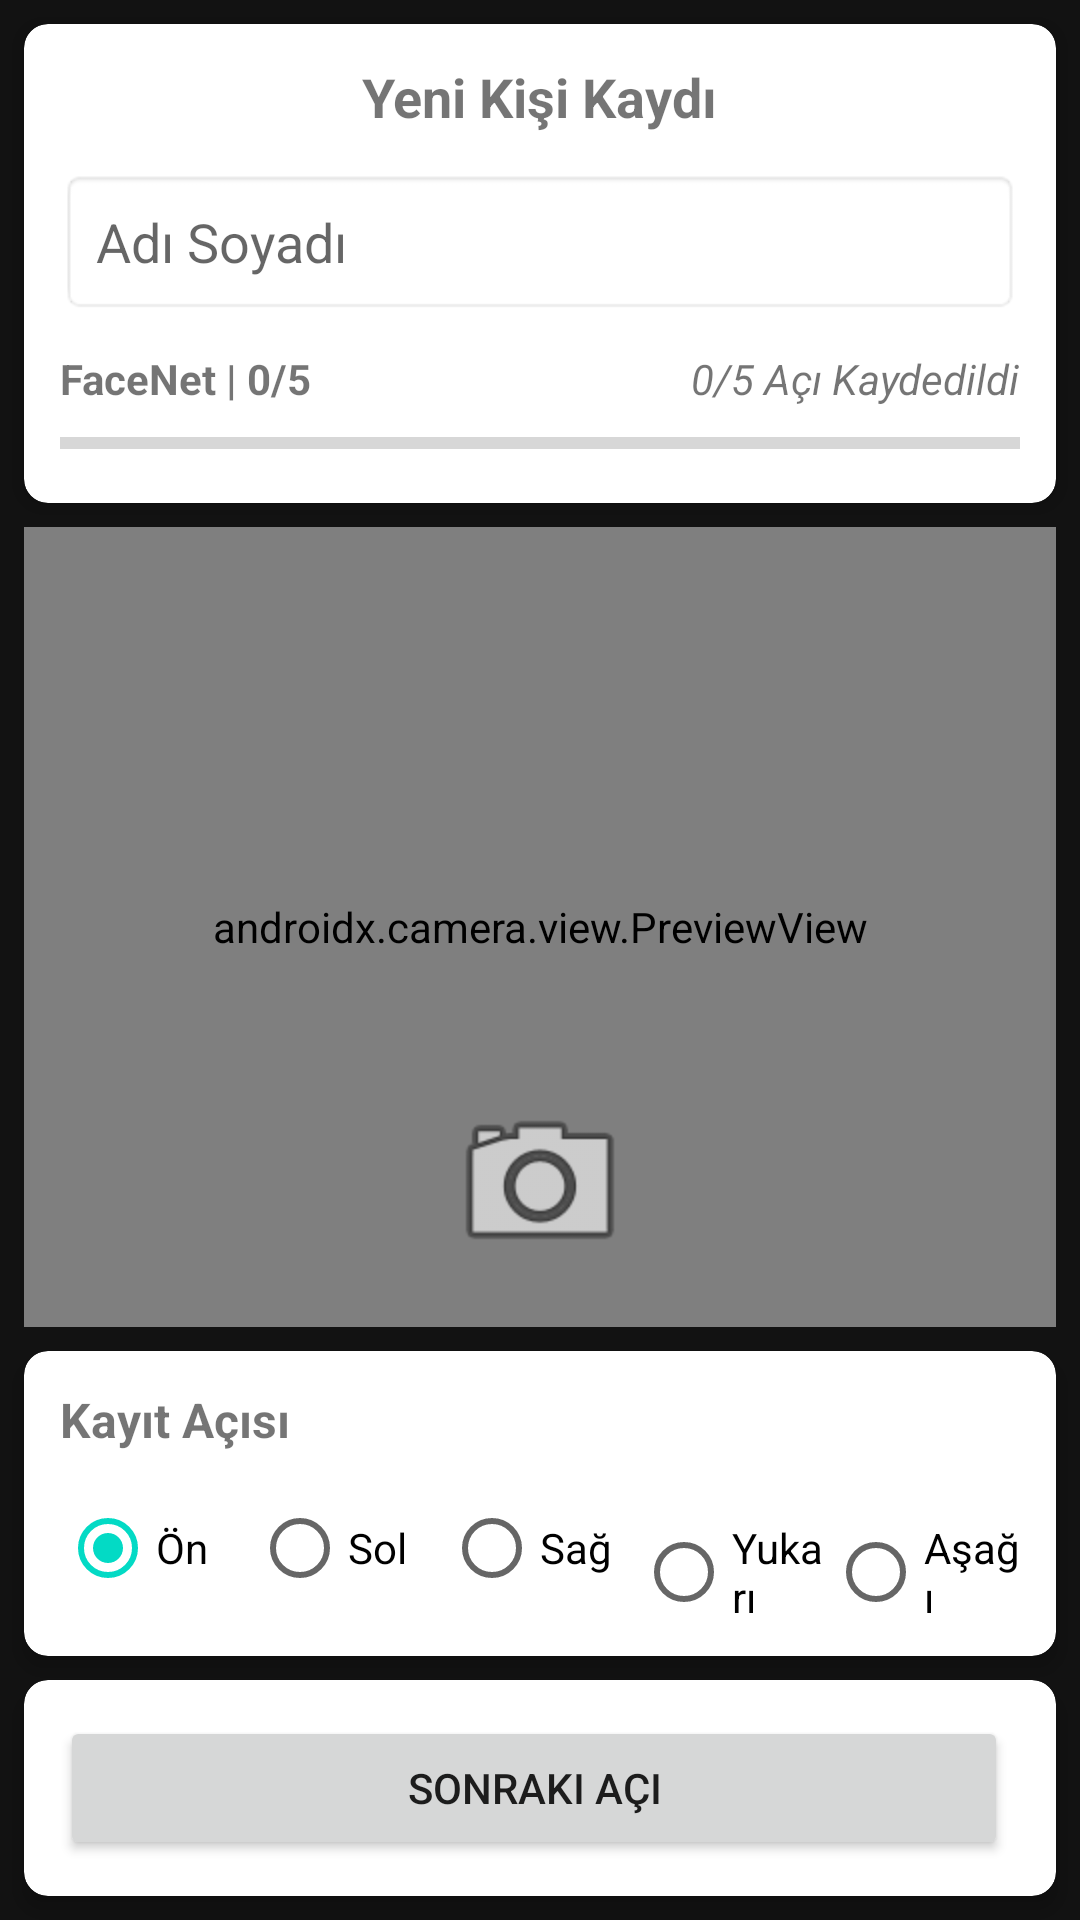

Screen size 1080x1920. Icon name, then its center in pixels as [x,y]:
Fotoğraf Çek: [540,1180]
